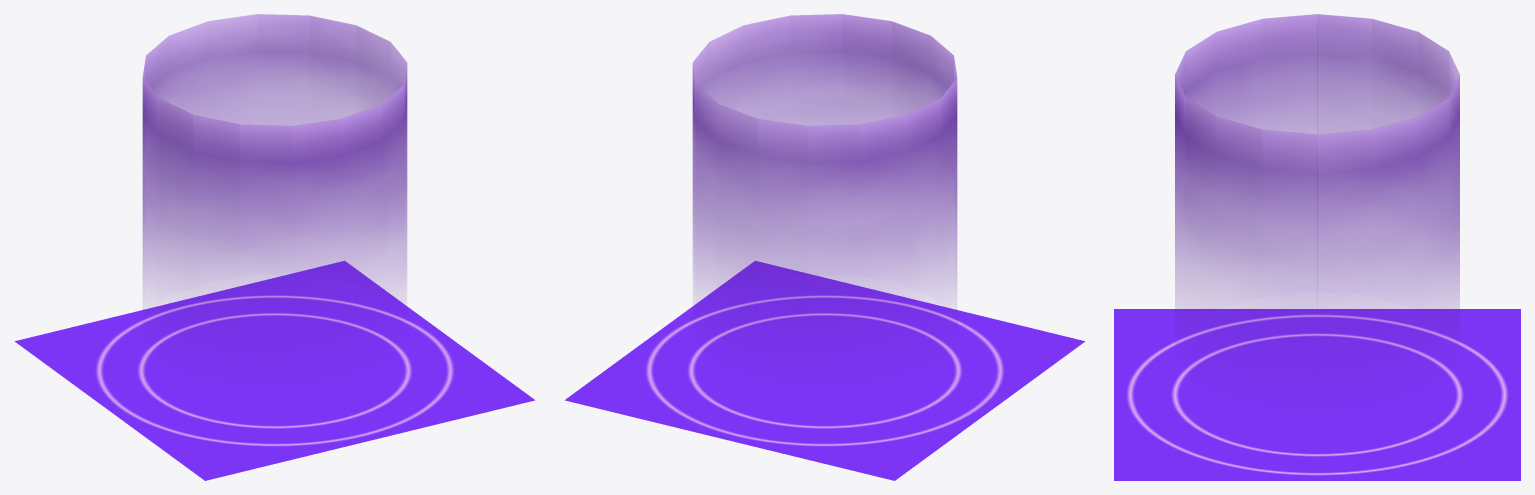
The model's file is fx_spawn.glb.
3 views of the same model, side by side, from view 1: azimuth 30°, elevation 25°; view 2: azimuth 150°, elevation 25°; view 3: azimuth 270°, elevation 25° (orthographic). The views are drawn at different scales.
Parts seen in each view (by area): view 1: fx_spawn_wisp, fx_spawn_ring; view 2: fx_spawn_wisp, fx_spawn_ring; view 3: fx_spawn_wisp, fx_spawn_ring.
Part boxes in pixels (<box>): fx_spawn_wisp: <box>142,14,407,313</box>; fx_spawn_ring: <box>15,260,534,480</box>; fx_spawn_wisp: <box>692,14,957,321</box>; fx_spawn_ring: <box>565,261,1084,480</box>; fx_spawn_wisp: <box>1175,14,1459,352</box>; fx_spawn_ring: <box>1114,309,1520,480</box>.
Bounding box in the file's own units: 1 × 0.9 × 1.
Materials: 2 (2 with a texture image).
